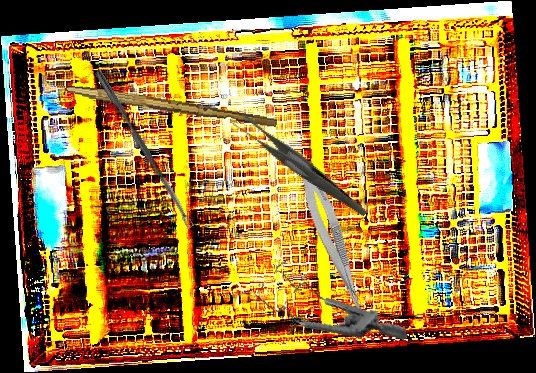Dressing Forceps: (231, 87, 368, 247)
Micro Scissor: (291, 160, 385, 341)
Scalpel Handle: (63, 84, 279, 129)
Speculum: (251, 239, 408, 366)
Surgical Spoon: (92, 68, 195, 230)
